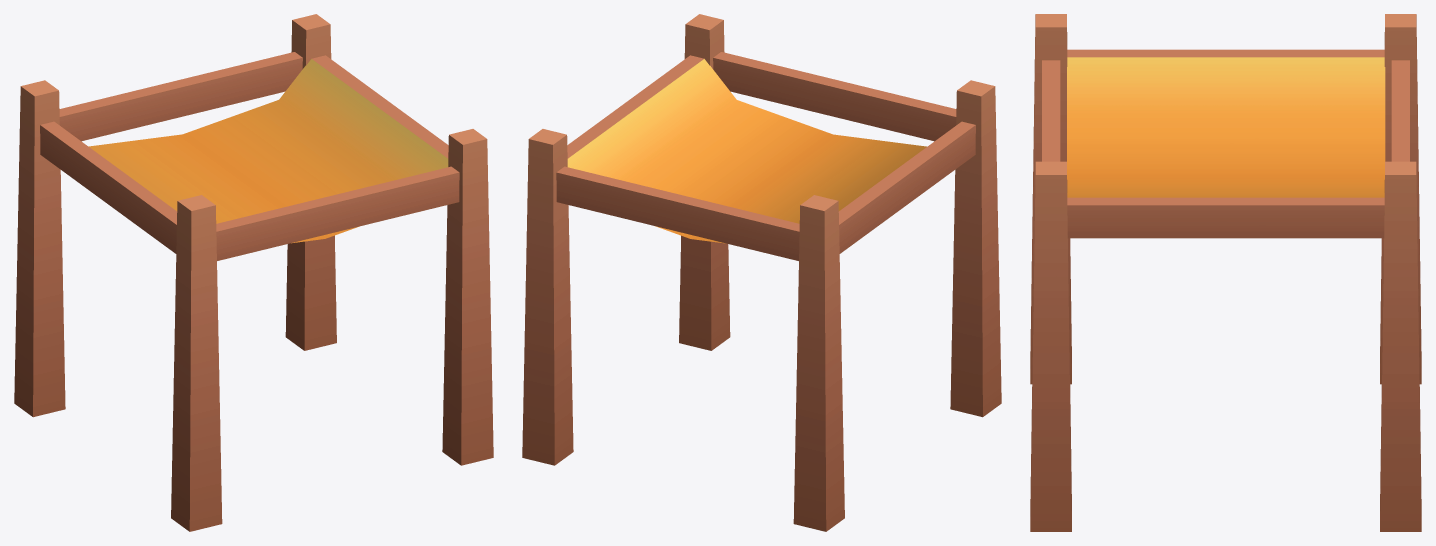
File: structure-canvas.glb
3 renders of one model, left to right at view 1: azimuth 30°, elevation 25°; view 2: azimuth 150°, elevation 25°; view 3: azimuth 270°, elevation 25°, orthographic. The views are drawn at different scales.
Visible parts, largest first — view 1: structure-canvas; view 2: structure-canvas; view 3: structure-canvas.
Boxes of the visible parts, box(x1,y1,x2,y2) form: structure-canvas: box(14, 14, 493, 531); structure-canvas: box(522, 14, 1001, 531); structure-canvas: box(1030, 14, 1421, 531).
Bounding box in the file's own units: 0.5 × 0.5 × 0.5.
Materials: 1 (1 with a texture image).
